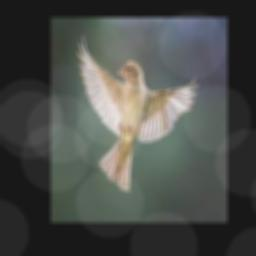Sparrow: (77, 35, 199, 190)
